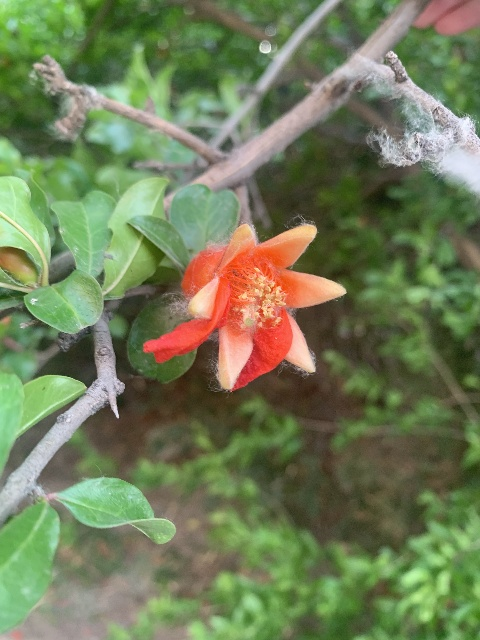flower: (140, 222, 346, 392)
